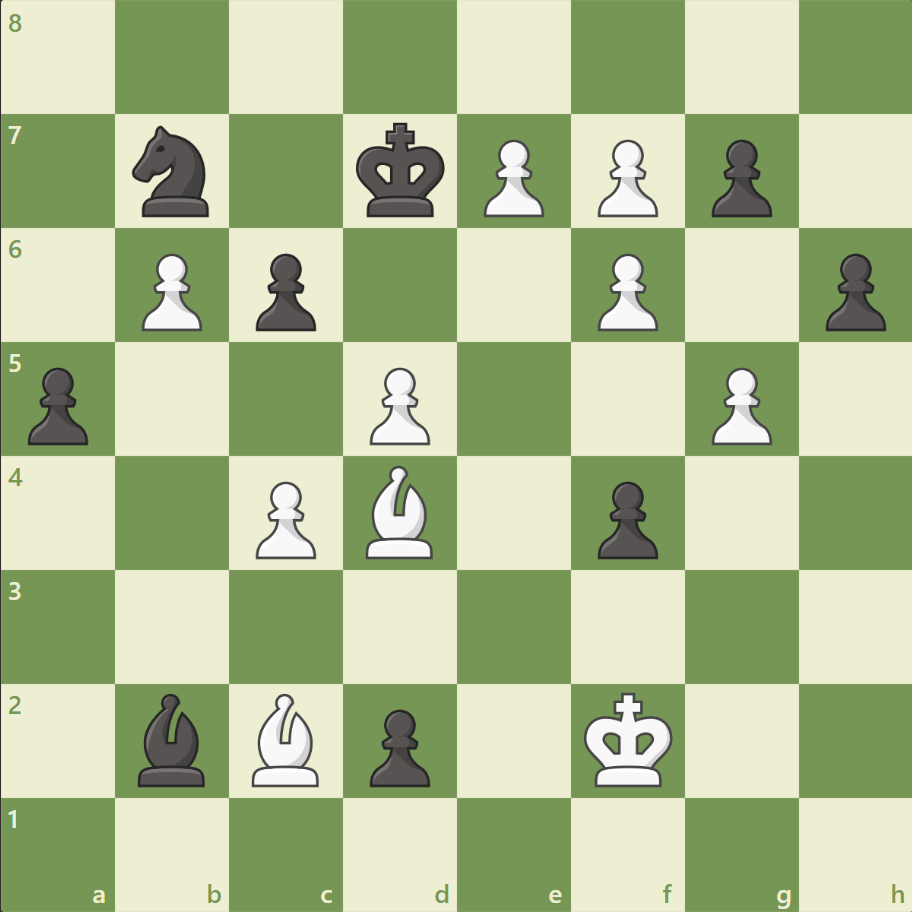B: (358, 460, 442, 563), (244, 687, 328, 790)
K: (579, 685, 679, 793)
P: (474, 132, 549, 223), (133, 246, 208, 337), (701, 359, 776, 450), (247, 473, 322, 564), (588, 132, 662, 223), (588, 246, 662, 337), (361, 359, 435, 450)
b: (131, 687, 215, 790)
k: (351, 117, 451, 225)
n: (124, 121, 222, 223)
p: (701, 132, 776, 223), (247, 246, 322, 337), (20, 359, 95, 450), (815, 246, 889, 337), (588, 473, 662, 564), (361, 700, 435, 791)
